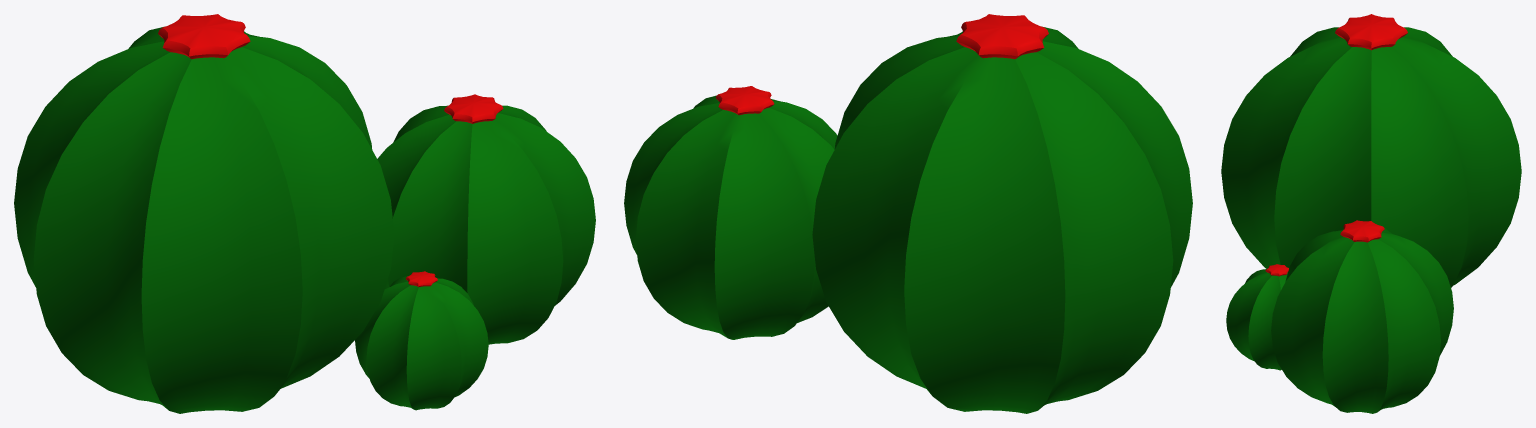
Rendered from FallenSkiesFillerAssetsCactai.fbx.
3 renders of one model, left to right at view 1: azimuth 30°, elevation 25°; view 2: azimuth 150°, elevation 25°; view 3: azimuth 270°, elevation 25°, orthographic. The views are drawn at different scales.
Parts seen in each view (by area): view 1: mini cactai; view 2: mini cactai; view 3: mini cactai.
Boxes of the visible parts, x1,y1,x2,y2 form: mini cactai: (14,14,595,413); mini cactai: (624,14,1192,413); mini cactai: (1221,14,1521,413).
Size of the model in its own units: 47.78 by 31.34 by 30.31.
